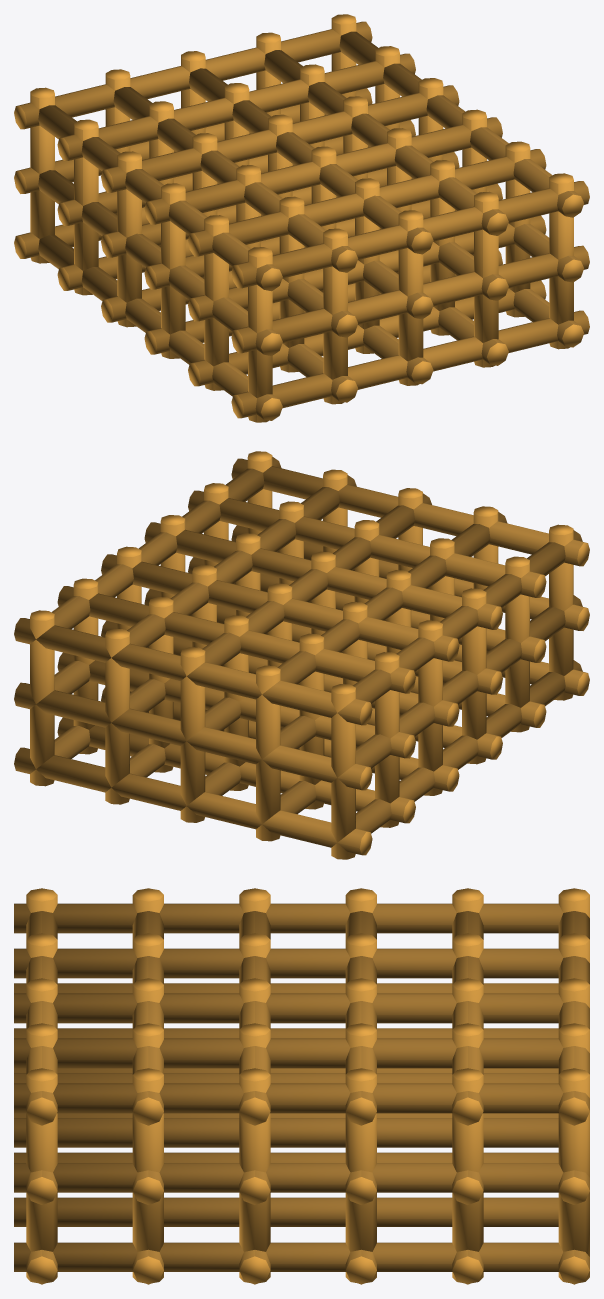
File: WoodCage_Platform.fbx
The picture shows the model from 3 angles, top to bottom: view 1: azimuth 30°, elevation 25°; view 2: azimuth 150°, elevation 25°; view 3: azimuth 270°, elevation 25°; orthographic projection. The views are drawn at different scales.
Parts seen in each view (by area): view 1: WoodCage_Platform; view 2: WoodCage_Platform; view 3: WoodCage_Platform.
Boxes of the visible parts, <box> form: WoodCage_Platform: <box>14,14,589,422</box>; WoodCage_Platform: <box>14,451,589,859</box>; WoodCage_Platform: <box>14,888,589,1284</box>.
Size of the model in its own units: 1.11 by 0.5057 by 1.3.
